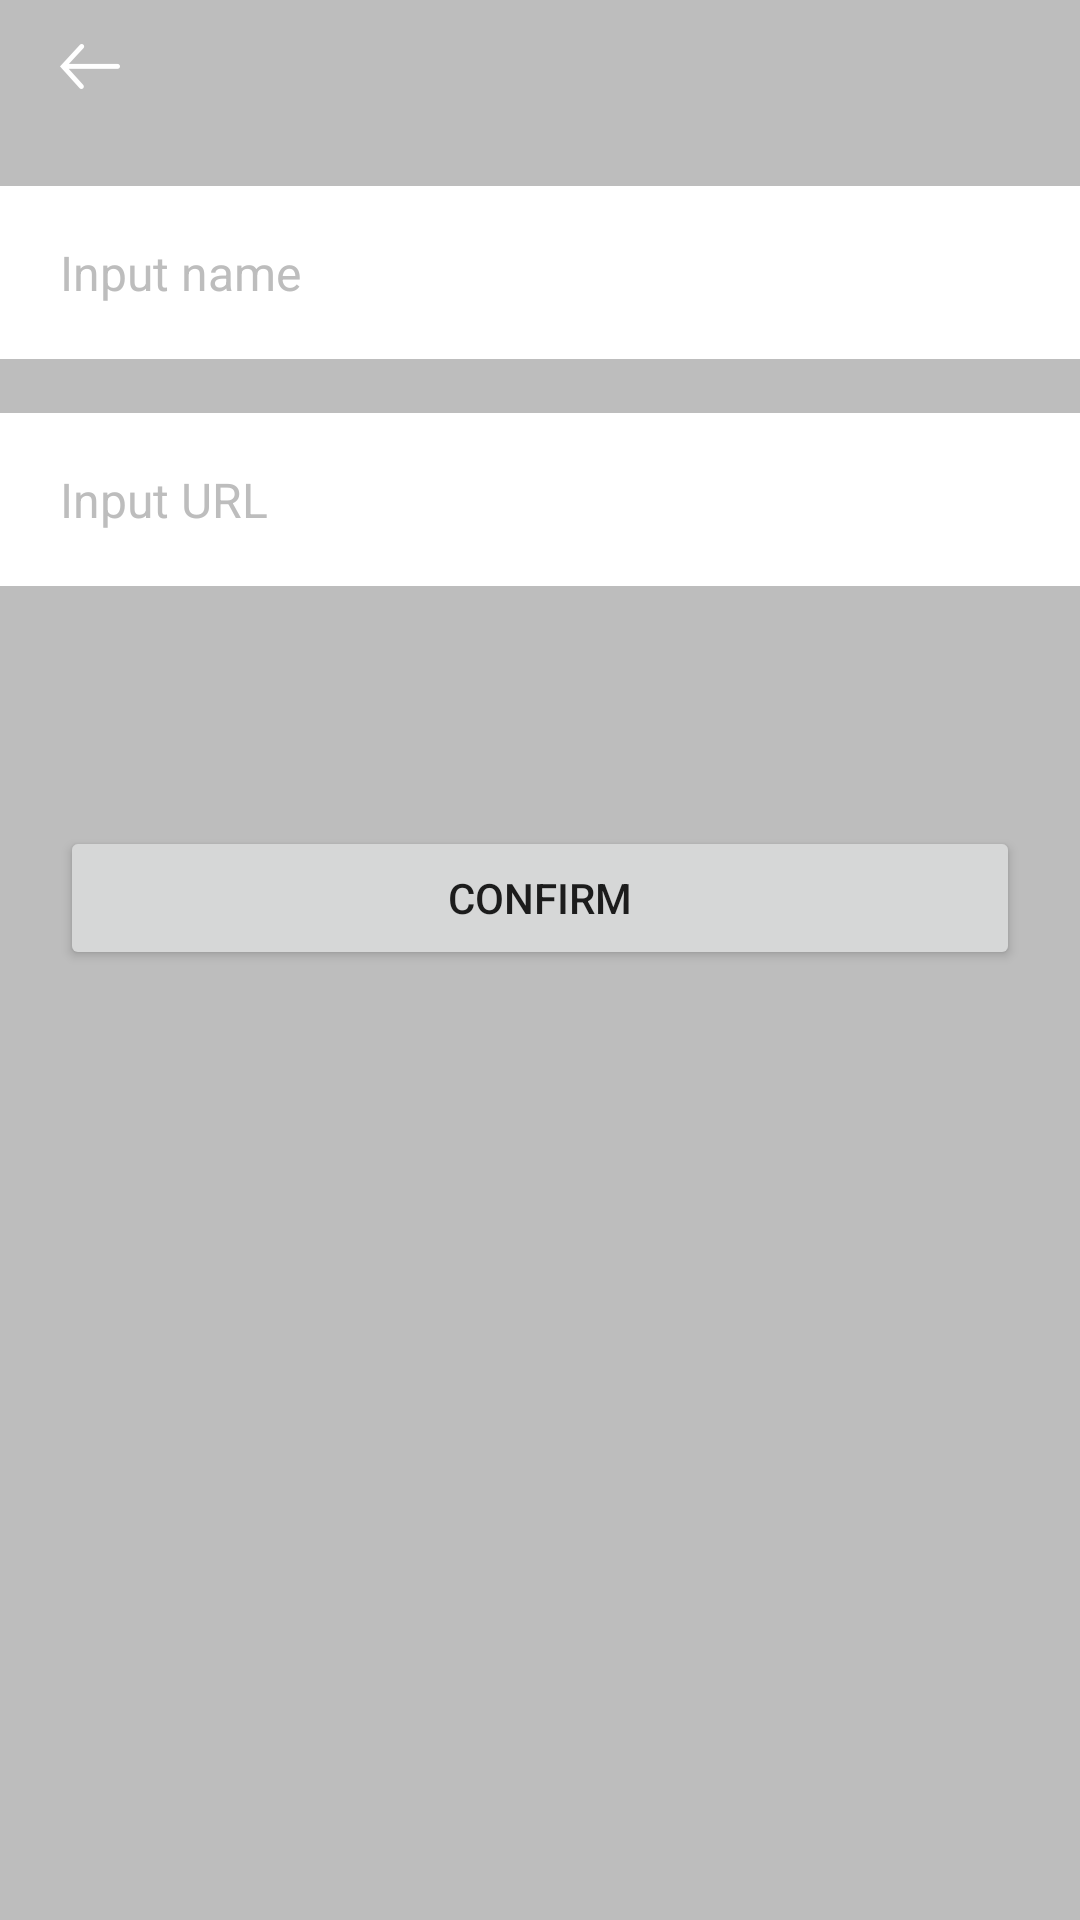

Point at icon controls on the screen. Image size 1080 × 1920, points as [x,y].
back: [90,66]
